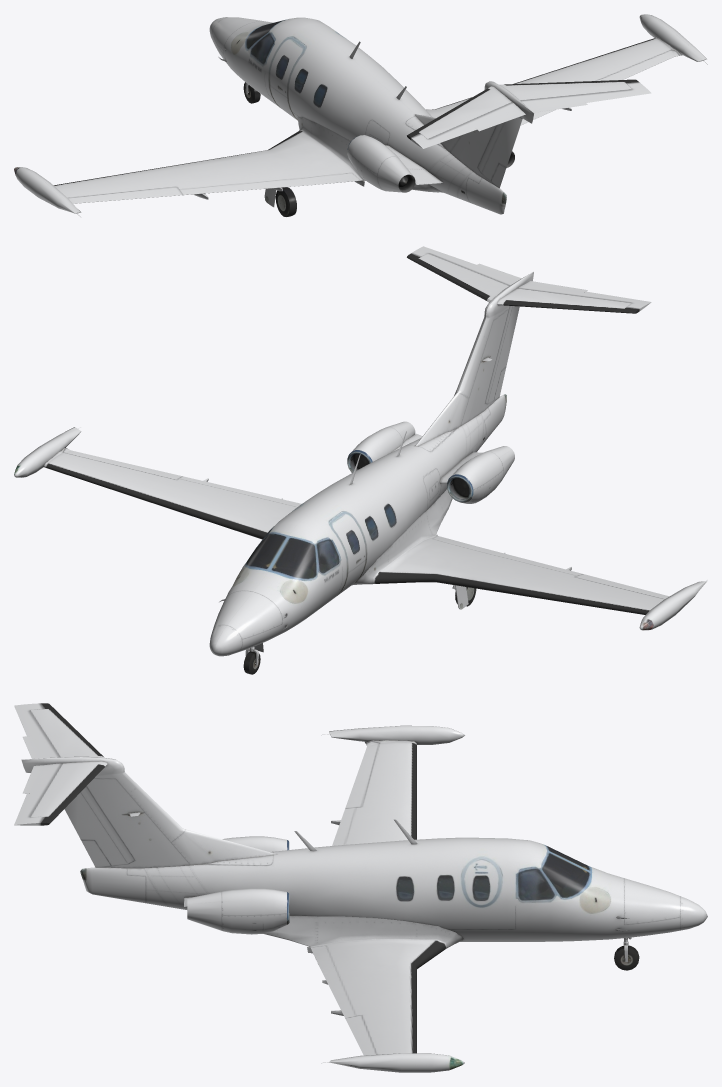
The model's file is D02_YRJ.glb.
3 views of the same model, one above another, from view 1: azimuth 30°, elevation 25°; view 2: azimuth 150°, elevation 25°; view 3: azimuth 270°, elevation 25° (orthographic). The views are drawn at different scales.
Visible parts, largest first — view 1: D02YRJ01; view 2: D02YRJ01; view 3: D02YRJ01.
Boxes of the visible parts, left/top/right/bottom form: D02YRJ01: left=14, top=14, right=707, bottom=216; D02YRJ01: left=14, top=246, right=707, bottom=674; D02YRJ01: left=14, top=703, right=707, bottom=1072.
Size of the model in its own units: 15.3 by 4.52 by 13.35.
Materials: 2 (2 with a texture image).
